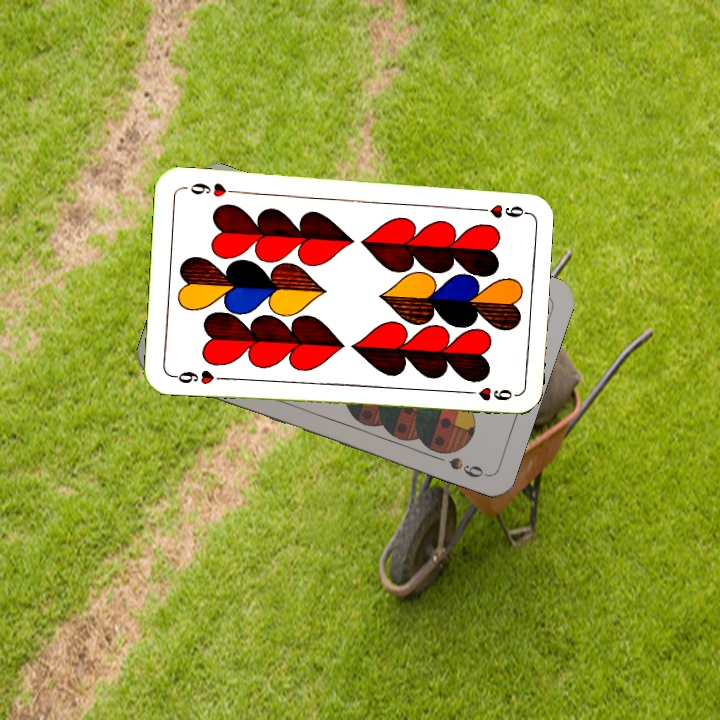H9: (168, 366, 227, 387), (468, 200, 527, 220)
